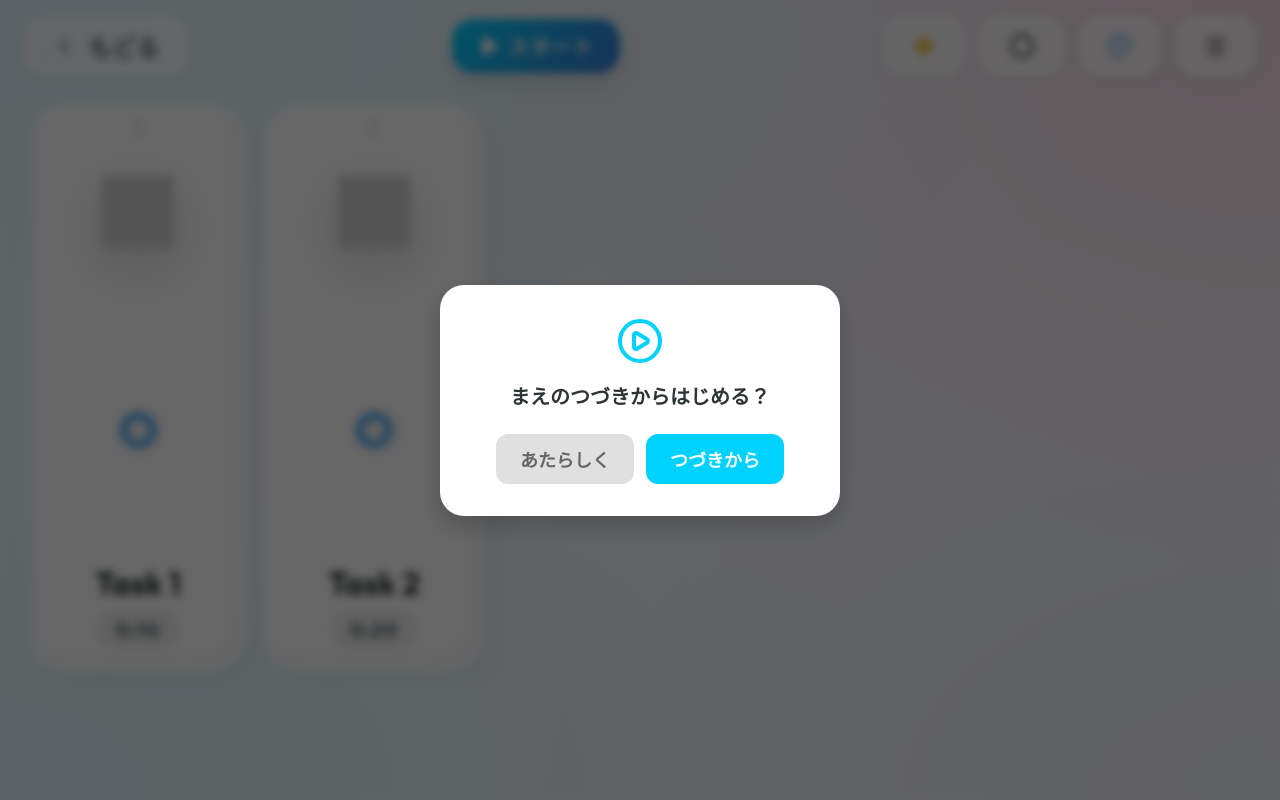
Test: MainTimerView Integration › should resume from previous session when resume modal confirm is clicked
expect the text "まえのつづきからはじめる？" is shown: met, box x1=510 y1=384 x2=770 y2=408
Click the button "つづきから" at x=715, y=458, box x1=646 y1=434 x2=784 y2=484
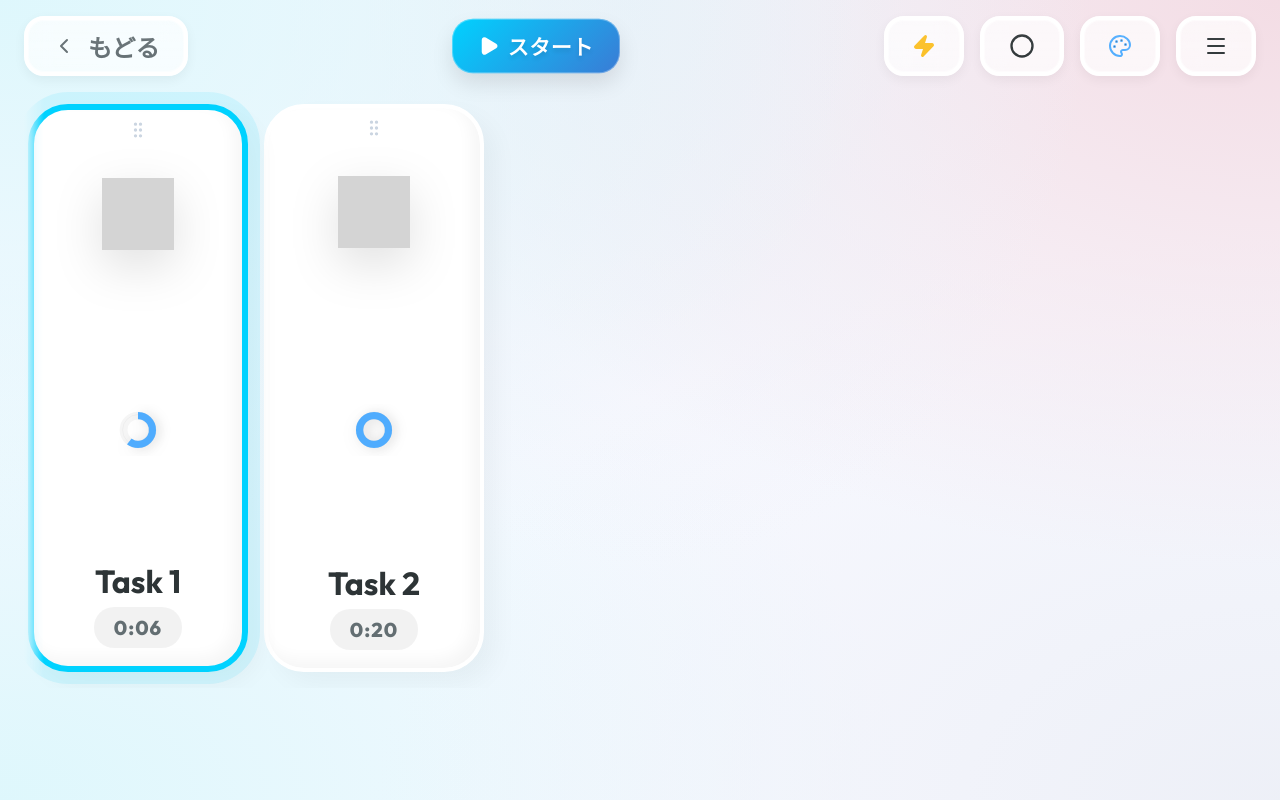
expect the text "まえのつづきからはじめる？" is gone: met
